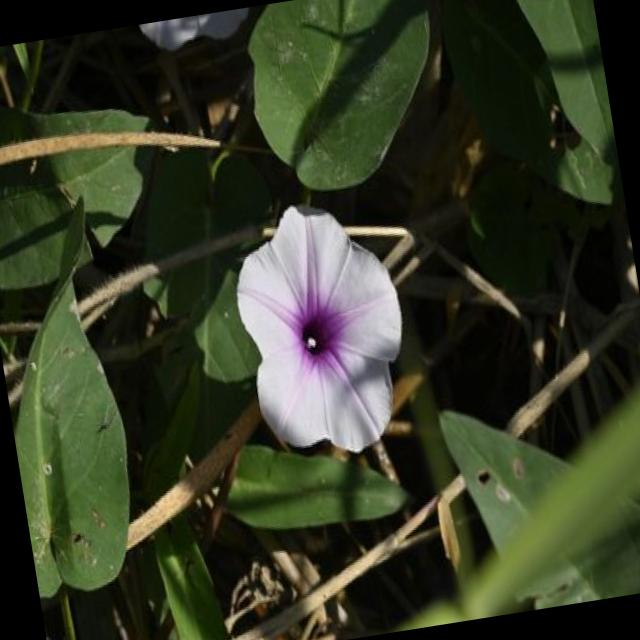ipomoea: (219, 185, 427, 472)
